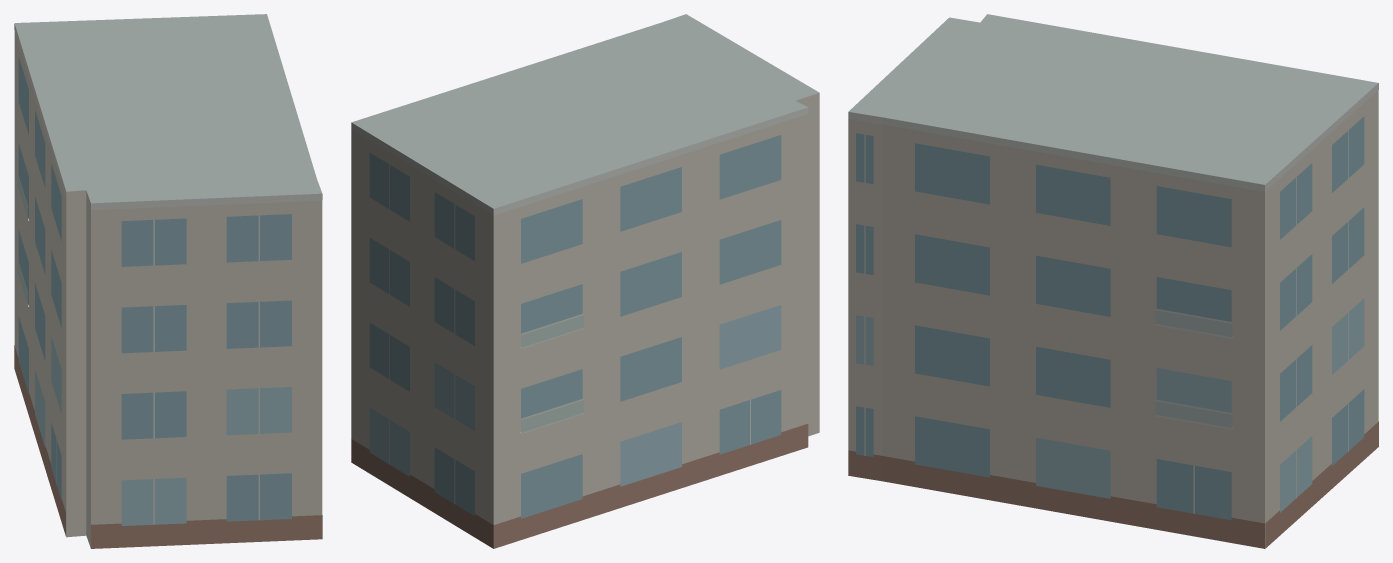
File: survey-upis-32535378.glb
The picture shows the model from 3 angles, left to right: view 1: azimuth 30°, elevation 25°; view 2: azimuth 150°, elevation 25°; view 3: azimuth 270°, elevation 25°; orthographic projection. The views are drawn at different scales.
Visible parts, largest first — view 1: survey-upis-32535378.tmp; view 2: survey-upis-32535378.tmp; view 3: survey-upis-32535378.tmp.
Part boxes in pixels (left/top/right/bottom): survey-upis-32535378.tmp: left=14, top=14, right=322, bottom=548; survey-upis-32535378.tmp: left=351, top=14, right=819, bottom=548; survey-upis-32535378.tmp: left=848, top=14, right=1378, bottom=548.
Size of the model in its own units: 12.6 by 12.5 by 16.52.
